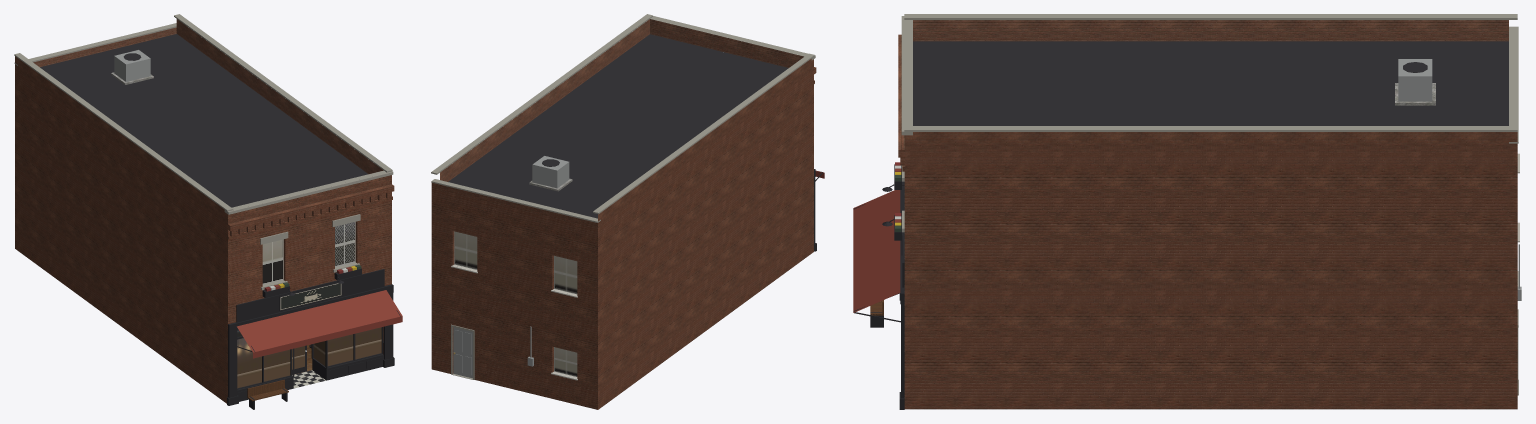
The model's file is town_shop_b 2.gltf.
The picture shows the model from 3 angles, left to right: view 1: azimuth 30°, elevation 25°; view 2: azimuth 150°, elevation 25°; view 3: azimuth 270°, elevation 25°; orthographic projection. The views are drawn at different scales.
Visible parts, largest first — view 1: TownShopB_Walls, TownShopB_RoofDeck, TownShopB_Awning, TownShopB_Window, TownShopB_Coping, TownShopB_ParapetIn, TownShopB_Cornice, TownShopB_Iron, TownShopB_SignBand, TownShopB_Bulkheads, TownShopB_HVAC, TownShopB_Sign (+5 smaller); view 2: TownShopB_Walls, TownShopB_RoofDeck, TownShopB_ParapetIn, TownShopB_Coping, TownShopB_Window, TownShopB_HVAC, TownShopB_ClosedDoor, TownShopB_Trim; view 3: TownShopB_Walls, TownShopB_RoofDeck, TownShopB_ParapetIn, TownShopB_Coping, TownShopB_Awning, TownShopB_HVAC, TownShopB_Iron, TownShopB_Cornice.
Boxes of the visible parts, box(x1,y1,x2,y2) form: TownShopB_Walls: box(15, 56, 391, 403); TownShopB_RoofDeck: box(40, 34, 367, 207); TownShopB_Awning: box(237, 290, 402, 358); TownShopB_Window: box(237, 222, 381, 388); TownShopB_Coping: box(14, 14, 393, 214); TownShopB_ParapetIn: box(33, 19, 383, 174); TownShopB_Cornice: box(228, 184, 394, 239); TownShopB_Iron: box(227, 284, 394, 405); TownShopB_SignBand: box(236, 269, 384, 322); TownShopB_Bulkheads: box(237, 354, 383, 401); TownShopB_HVAC: box(111, 50, 153, 84); TownShopB_Sign: box(280, 283, 341, 309); TownShopB_Walls: box(431, 58, 813, 409); TownShopB_RoofDeck: box(448, 34, 788, 218); TownShopB_ParapetIn: box(440, 19, 803, 181); TownShopB_Coping: box(431, 14, 815, 222); TownShopB_Window: box(454, 231, 577, 376); TownShopB_HVAC: box(529, 156, 572, 191); TownShopB_ClosedDoor: box(453, 327, 472, 378); TownShopB_Trim: box(451, 264, 577, 380); TownShopB_Walls: box(904, 132, 1517, 409); TownShopB_RoofDeck: box(913, 41, 1508, 125); TownShopB_ParapetIn: box(913, 20, 1508, 41); TownShopB_Coping: box(901, 14, 1518, 143); TownShopB_Awning: box(853, 190, 900, 312); TownShopB_HVAC: box(1395, 59, 1435, 105); TownShopB_Iron: box(899, 182, 904, 409); TownShopB_Cornice: box(898, 34, 904, 171).
Size of what is drawn, in the model's own units: 8.1 by 9.21 by 19.62.
Materials: 2 (2 with a texture image).
